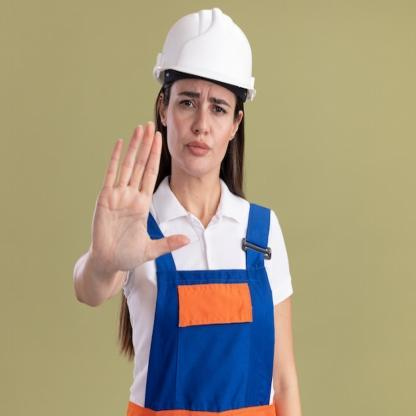stop: (92, 114, 190, 282)
